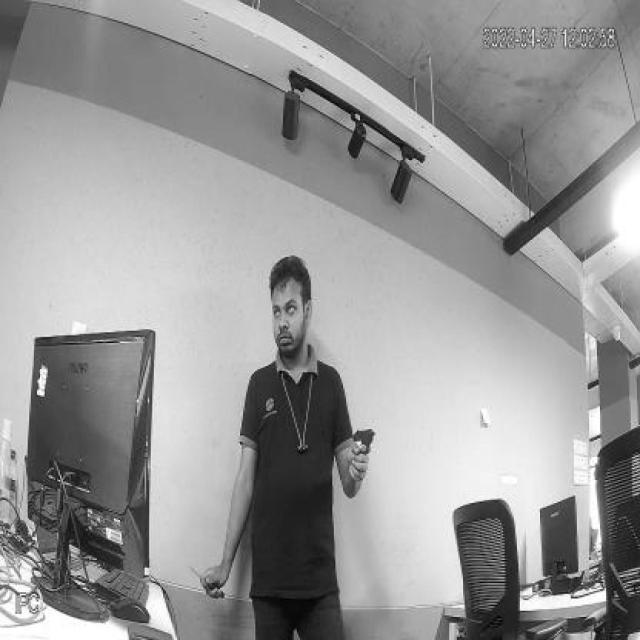weapon: (350, 430, 378, 458)
